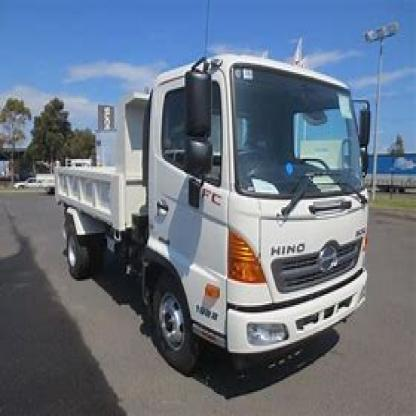dump_truck: (52, 41, 377, 372)
